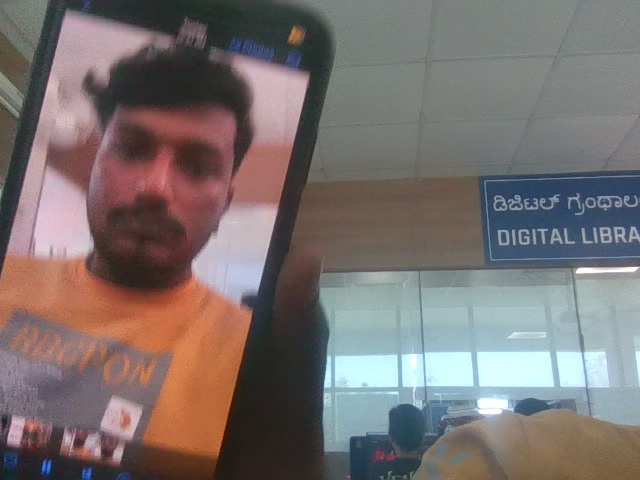fake: (66, 9, 265, 291)
